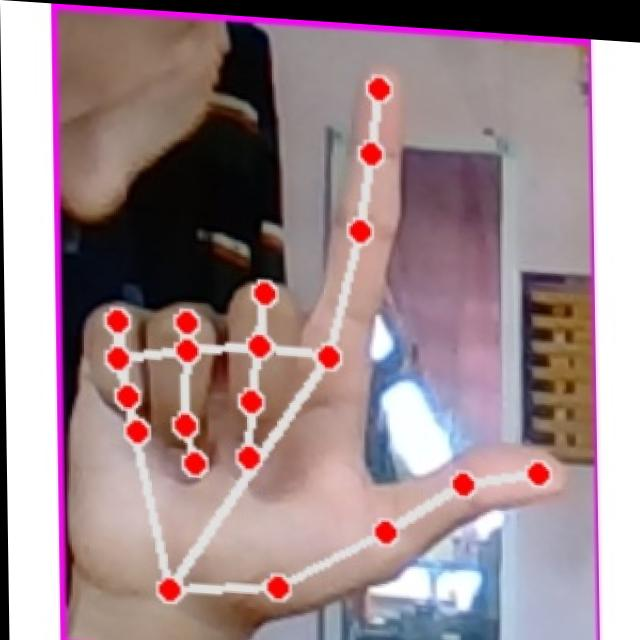L: (66, 55, 575, 640)
